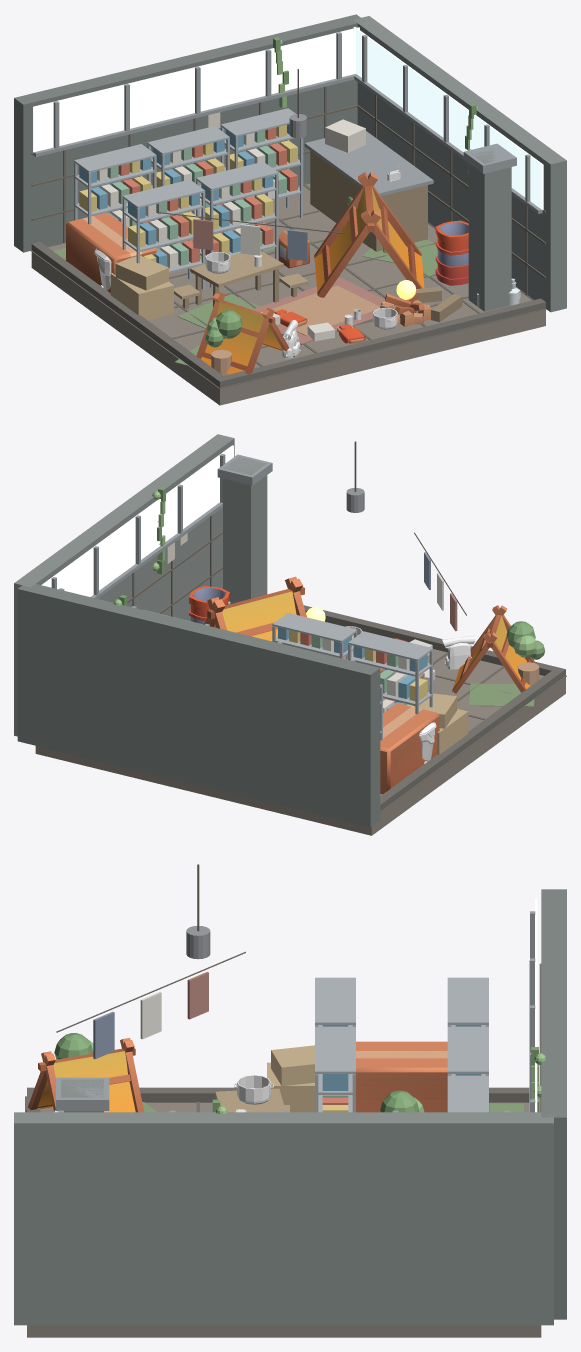
Rendered from mall_camp.glb.
3 renders of one model, top to bottom at view 1: azimuth 30°, elevation 25°; view 2: azimuth 150°, elevation 25°; view 3: azimuth 270°, elevation 25°, orthographic. The views are drawn at different scales.
Parts seen in each view (by area): view 1: Backpack, barrel-open; view 2: Backpack, barrel-open; view 3: Backpack, barrel-open.
Boxes of the visible parts, box(x1,y1,x2,y2) form: Backpack: box(14, 14, 566, 405); barrel-open: box(66, 172, 468, 379); Backpack: box(14, 434, 566, 835); barrel-open: box(189, 576, 534, 794); Backpack: box(14, 864, 566, 1337); barrel-open: box(26, 1038, 447, 1112).
Size of the model in its own units: 6.45 by 4.5 by 6.45.
61 materials, 8 textured.
